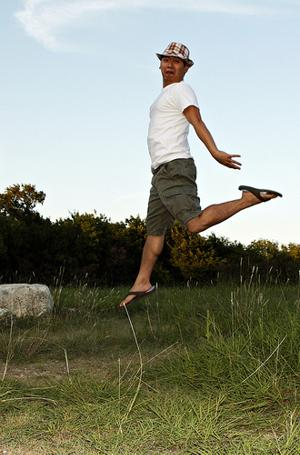person: (117, 38, 282, 314)
